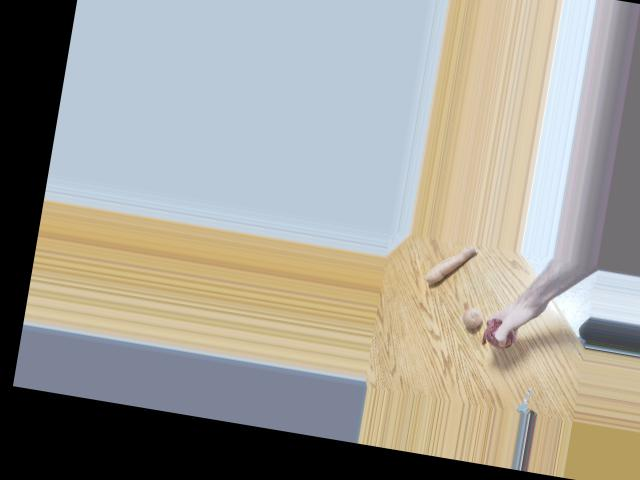onion: (482, 315, 515, 346)
